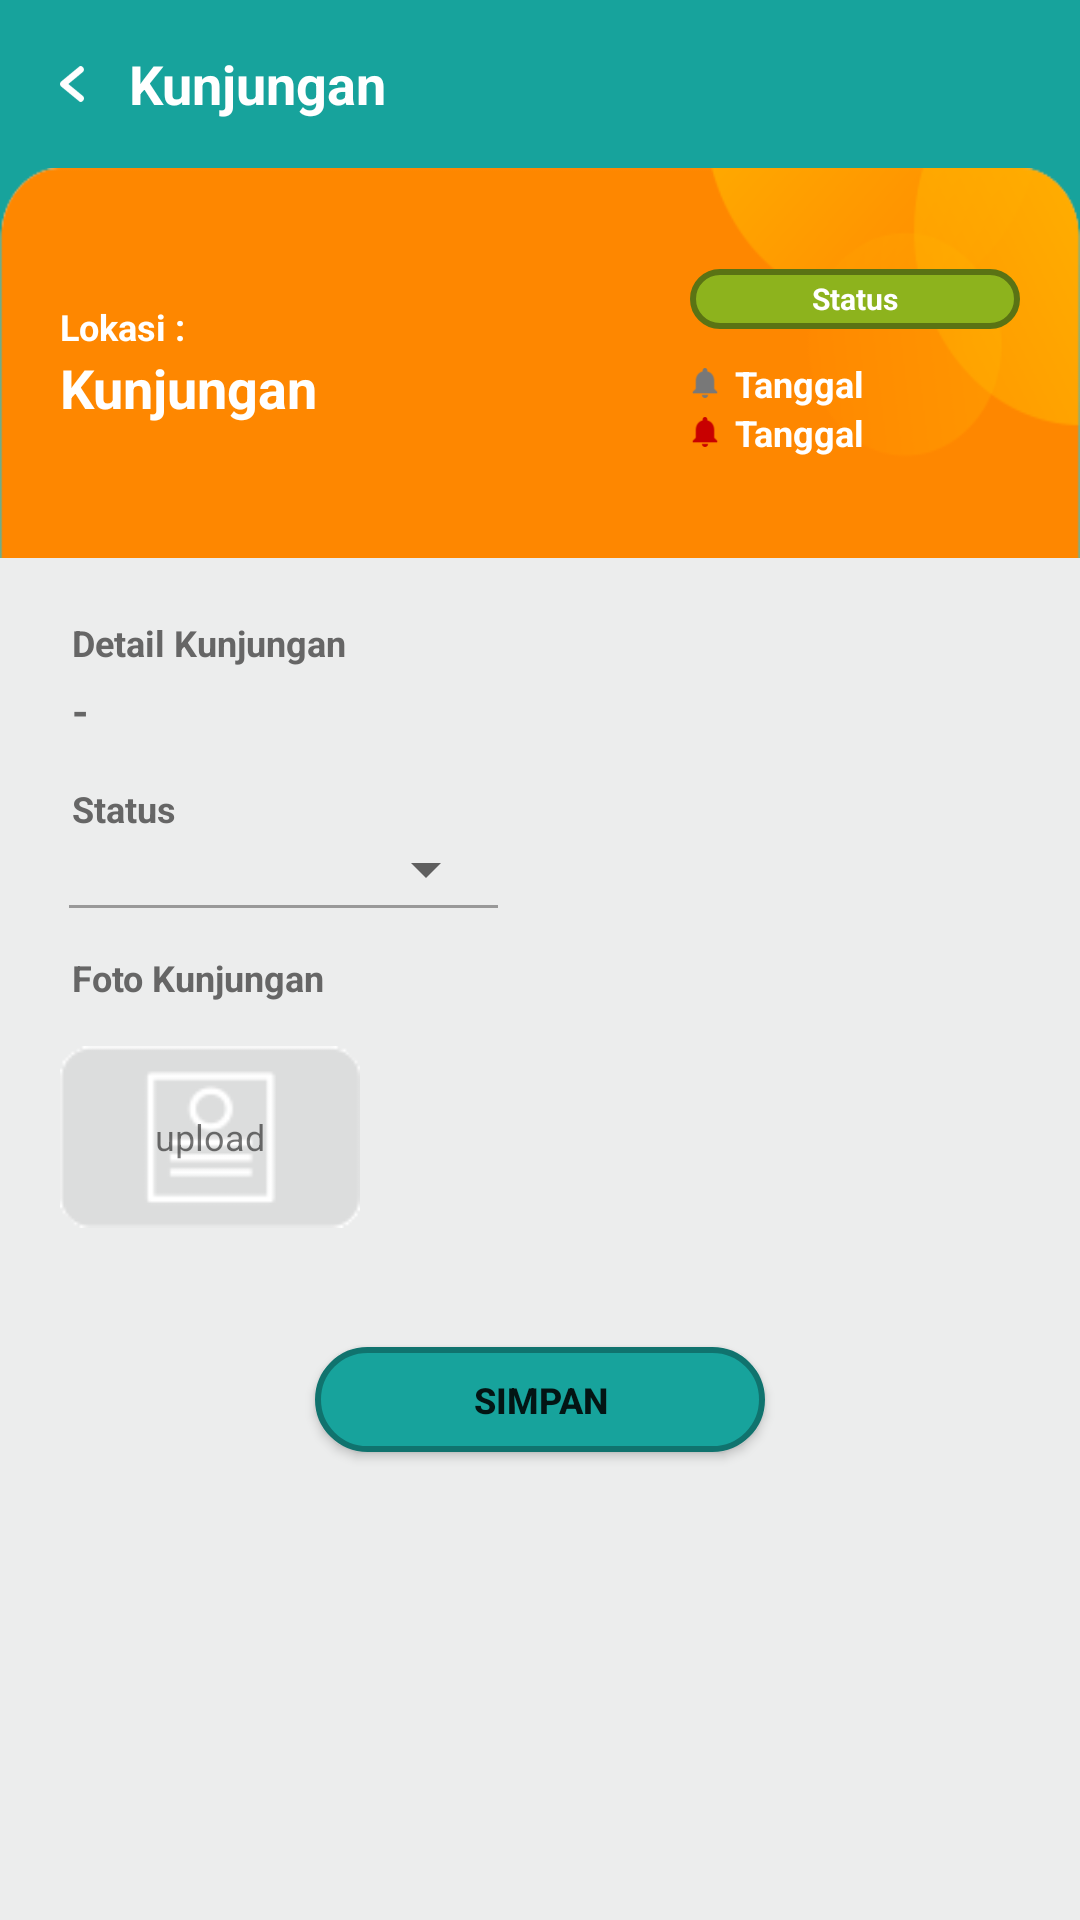

Named icons in this screenshot (1080*1920) and their centers, (x=x, y=y):
back: (x=72, y=84)
